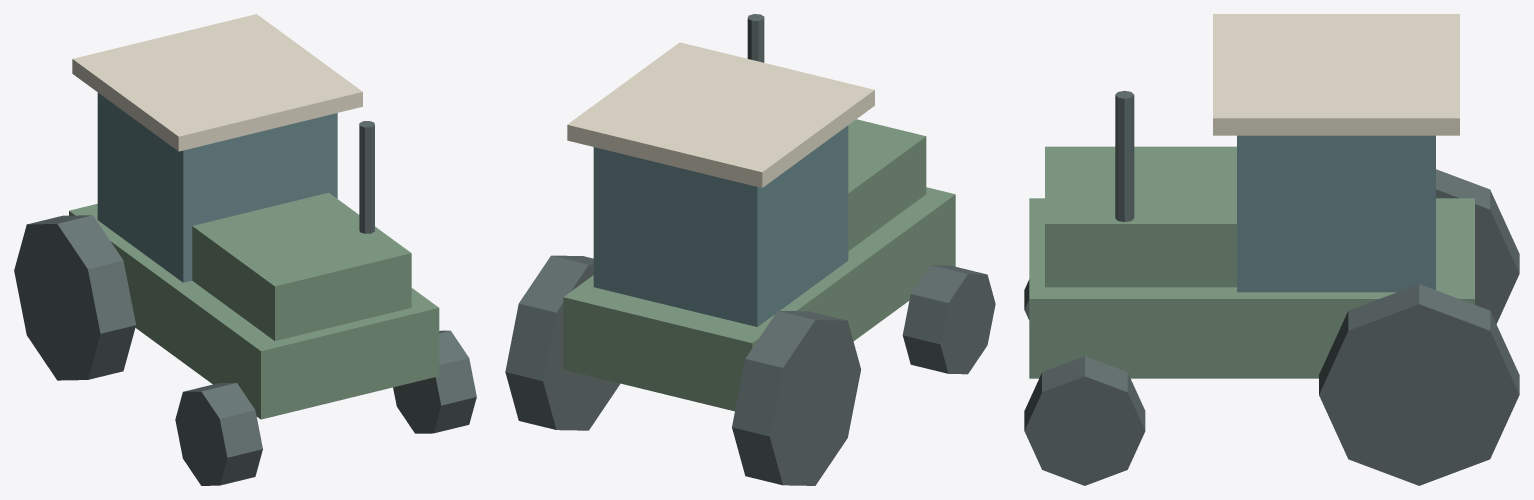
The picture shows the model from 3 angles, left to right: view 1: azimuth 30°, elevation 25°; view 2: azimuth 150°, elevation 25°; view 3: azimuth 270°, elevation 25°; orthographic projection. The views are drawn at different scales.
Size of the model in its own units: 2.1 by 2.45 by 3.11.
